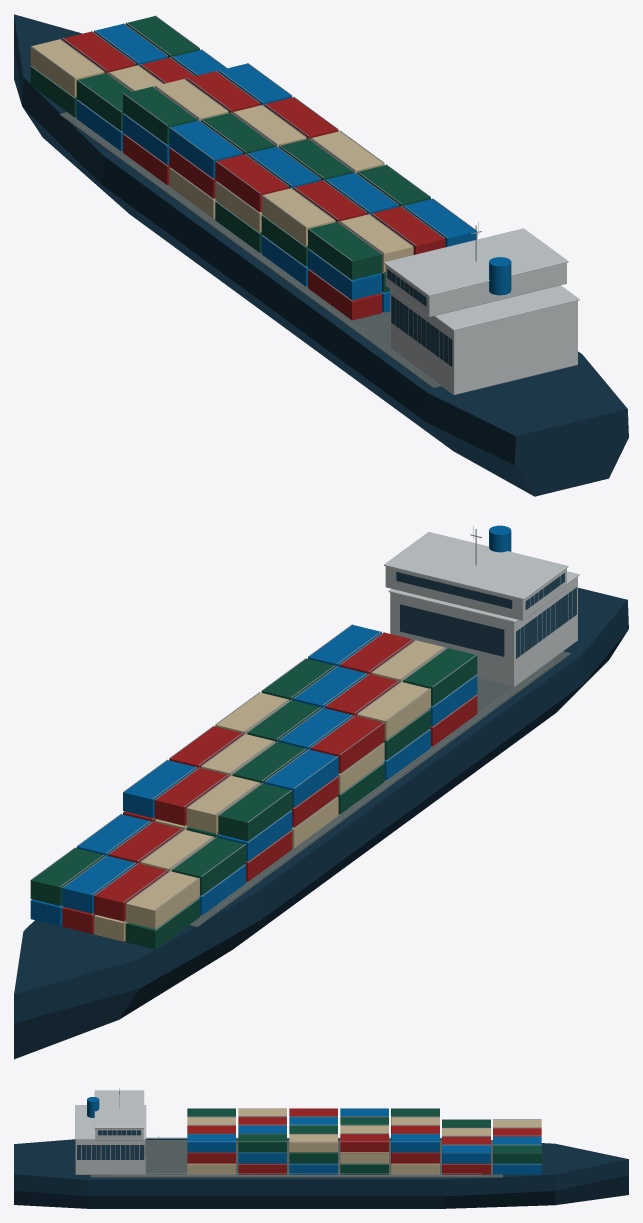
File: ship-cargo.glb
The picture shows the model from 3 angles, top to bottom: view 1: azimuth 30°, elevation 25°; view 2: azimuth 150°, elevation 25°; view 3: azimuth 270°, elevation 25°; orthographic projection. The views are drawn at different scales.
Parts seen in each view (by area): view 1: ship-cargo_body, ship-cargo_metal, ship-cargo_glass; view 2: ship-cargo_body, ship-cargo_metal, ship-cargo_glass; view 3: ship-cargo_body, ship-cargo_metal, ship-cargo_glass.
Part boxes in pixels (x1,y1,x2,y2): ship-cargo_body: (14, 14, 628, 496); ship-cargo_metal: (30, 15, 481, 372); ship-cargo_glass: (387, 269, 452, 366); ship-cargo_body: (14, 525, 628, 1059); ship-cargo_metal: (30, 526, 552, 930); ship-cargo_glass: (396, 572, 576, 658); ship-cargo_body: (14, 1090, 628, 1208); ship-cargo_metal: (112, 1088, 541, 1176); ship-cargo_glass: (77, 1130, 145, 1159).
Size of the model in its own units: 23 by 27 by 140.
